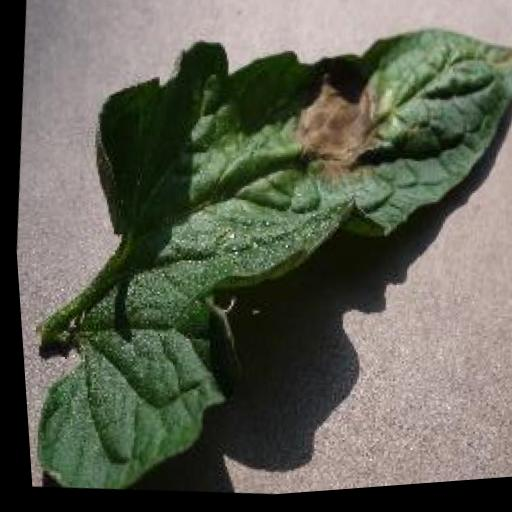Late Blight: (3, 0, 512, 512)
